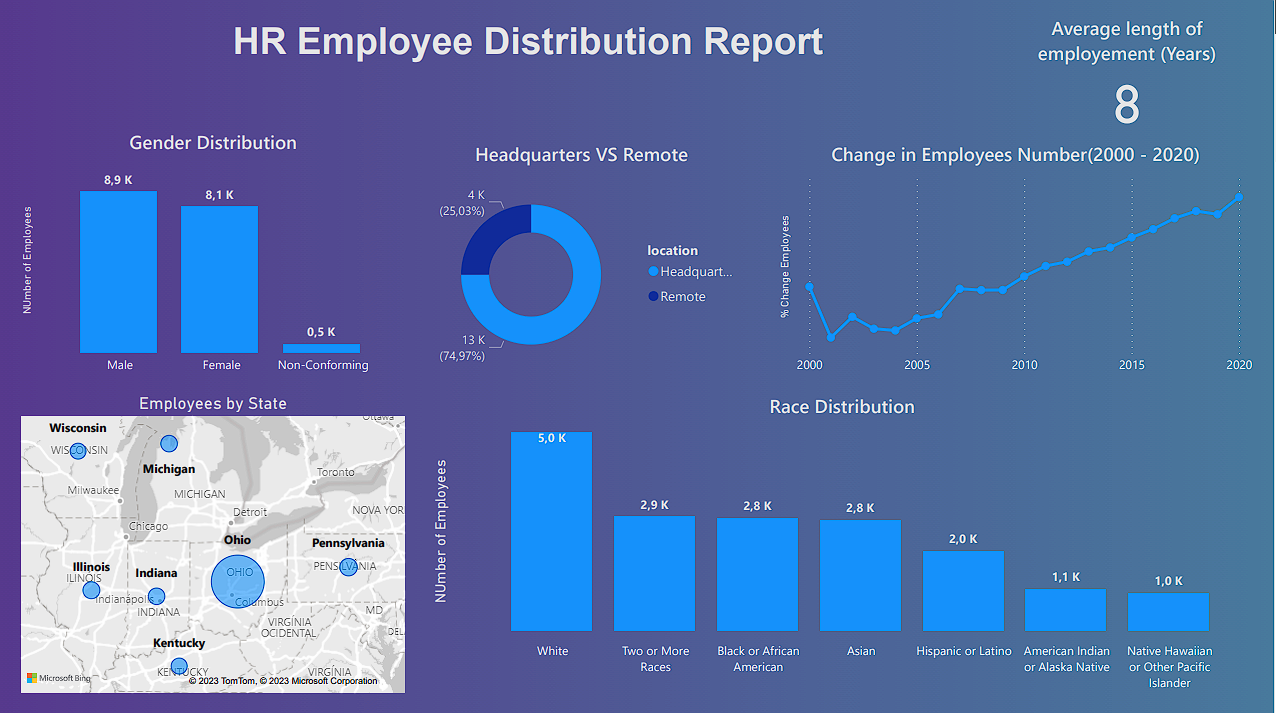

The dashboard page shown, as its layout file describes it:
{"tool":"powerbi","page":{"name":"Página 1","canvas":[1280,720],"ordinal":0},"visuals":[{"type":"textbox","box":[138.7,15.1,789.3,80],"z":0},{"type":"card","title":"Average length of employement (Years)","fields":{"Values":["Sum(avg_length_employment.avg_length_employment)"]},"box":[1022,15,222,114],"z":1000},{"type":"clusteredColumnChart","title":"Gender Distribution","fields":{"Category":["gender.gender"],"Y":["Sum(gender.count)"]},"box":[22,129,393,254],"z":2000},{"type":"donutChart","title":"Headquarters VS Remote","fields":{"Category":["location.location"],"Y":["Sum(location.COUNT(*))"]},"box":[415,141,344,242],"z":3000},{"type":"lineChart","title":"Change in Employees Number(2000 - 2020)","fields":{"Category":["net_change_percent.year"],"Y":["Sum(net_change_percent.net_change_percent)"]},"box":[780,141,483,242],"z":4000},{"type":"map","title":"Employees by State","fields":{"Size":["Sum(location_state.count)"],"Category":["location_state.location_state"]},"box":[22,393,393,305],"z":5000},{"type":"columnChart","title":"Race Distribution","fields":{"Category":["race.race"],"Y":["Sum(race.count)"]},"box":[433,393,830,305],"z":6000}]}

Visuals, with their boxes in screenshot pixels (x1, y1, x2, y2), scaled from the page's 1280x720 canvas onto the 1279x713 screenshot:
textbox: x1=139 y1=15 x2=927 y2=94
"Average length of employement (Years)" card: x1=1021 y1=15 x2=1243 y2=128
"Gender Distribution" clusteredColumnChart: x1=22 y1=128 x2=415 y2=379
"Headquarters VS Remote" donutChart: x1=415 y1=140 x2=758 y2=379
"Change in Employees Number(2000 - 2020)" lineChart: x1=779 y1=140 x2=1262 y2=379
"Employees by State" map: x1=22 y1=389 x2=415 y2=691
"Race Distribution" columnChart: x1=433 y1=389 x2=1262 y2=691
